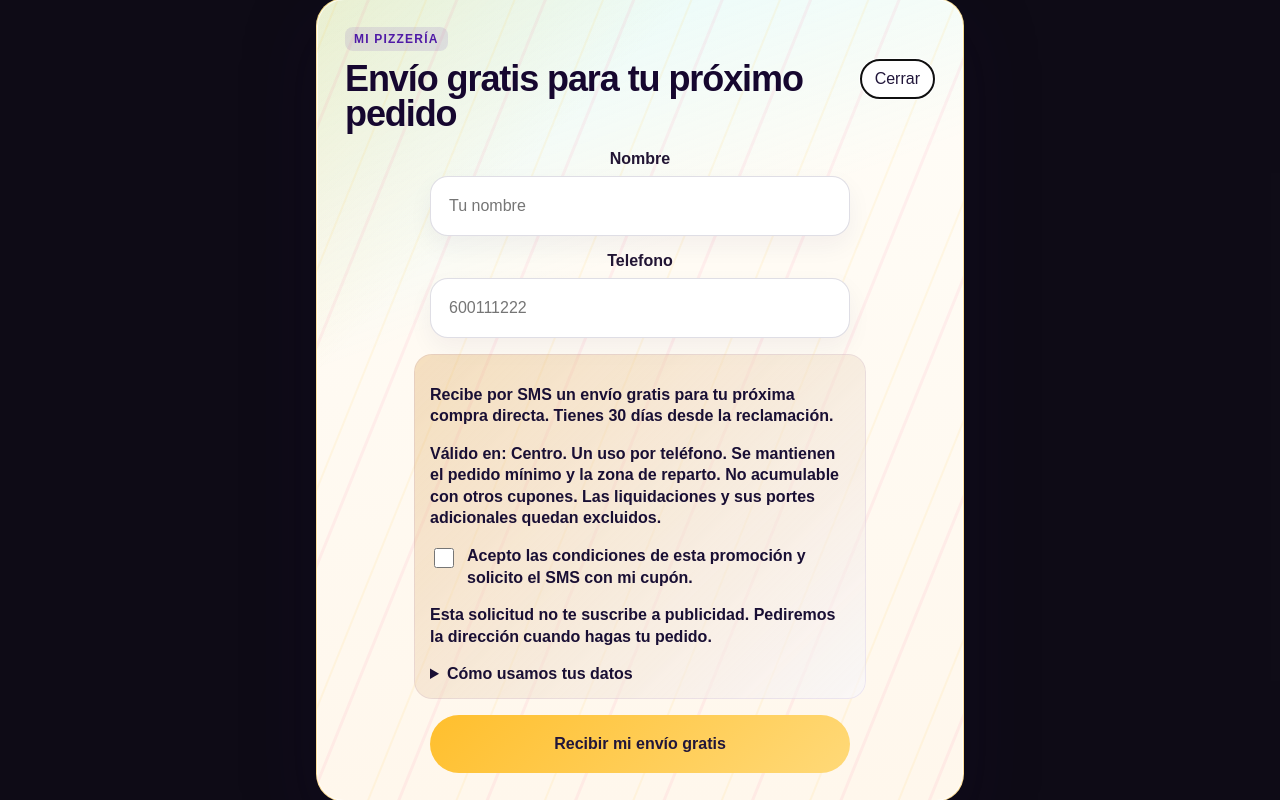
QR submission closes the modal, shows the SMS confirmation and has no resend or shopping action
The width and height of the screenshot is (1280, 800).
Type "Ana" into the field labelled "Nombre" at (640, 206), box [430,176,850,236]
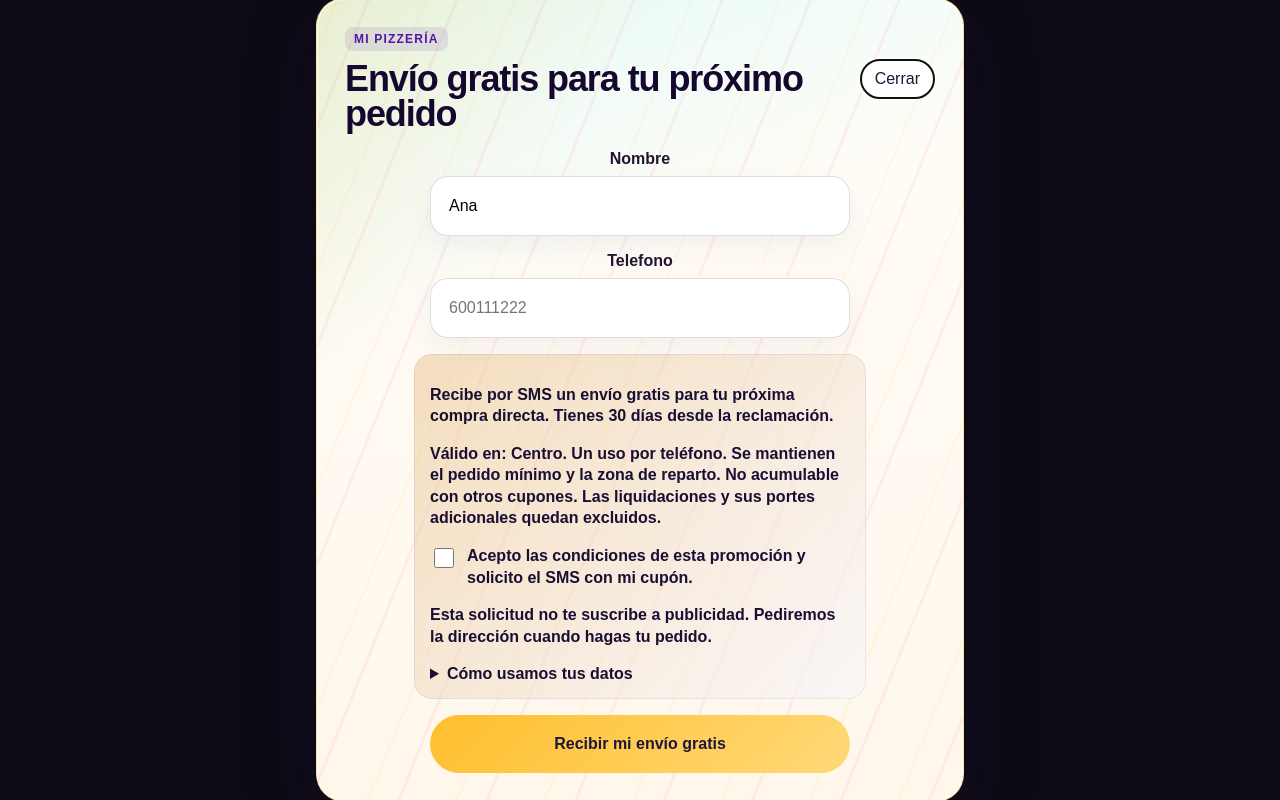
Type "600123456" into the field labelled "Telefono" at (640, 308), box [430,278,850,338]
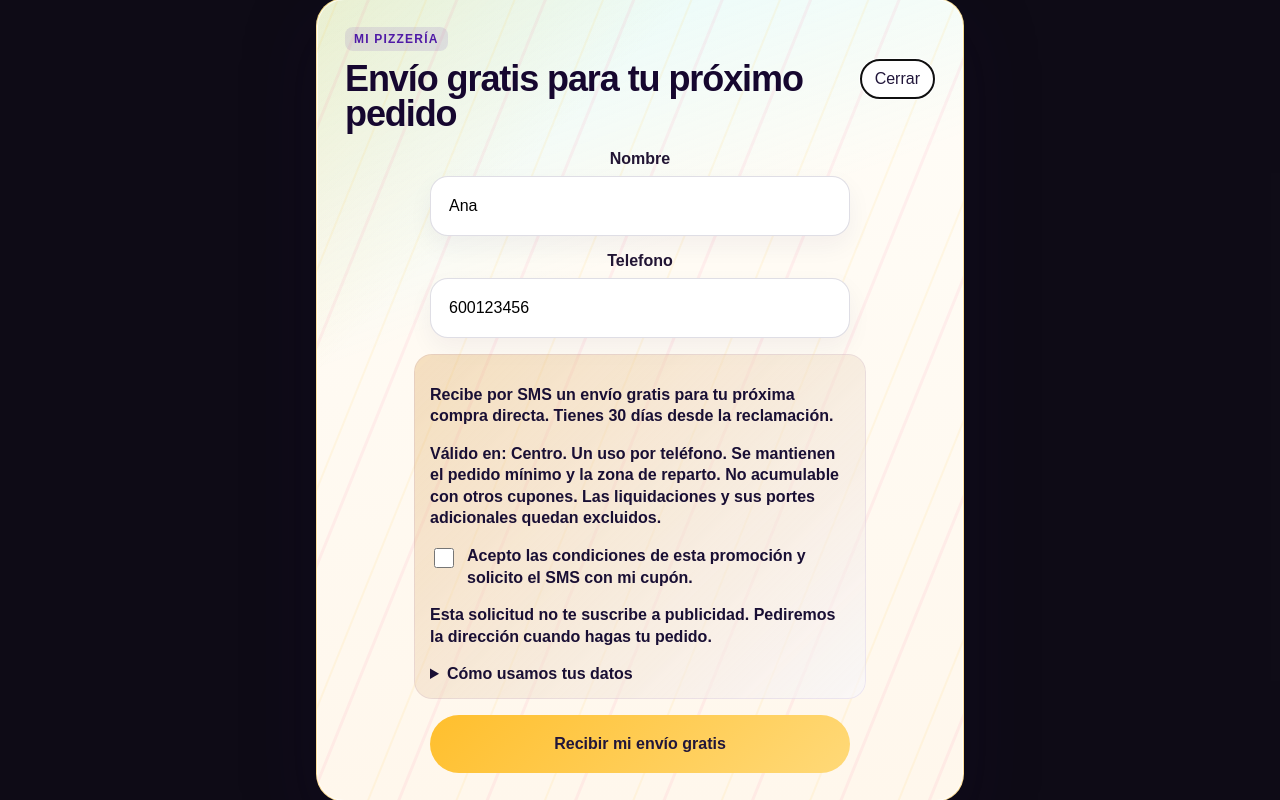
Click the checkbox at (444, 558), box [434,548,454,568]
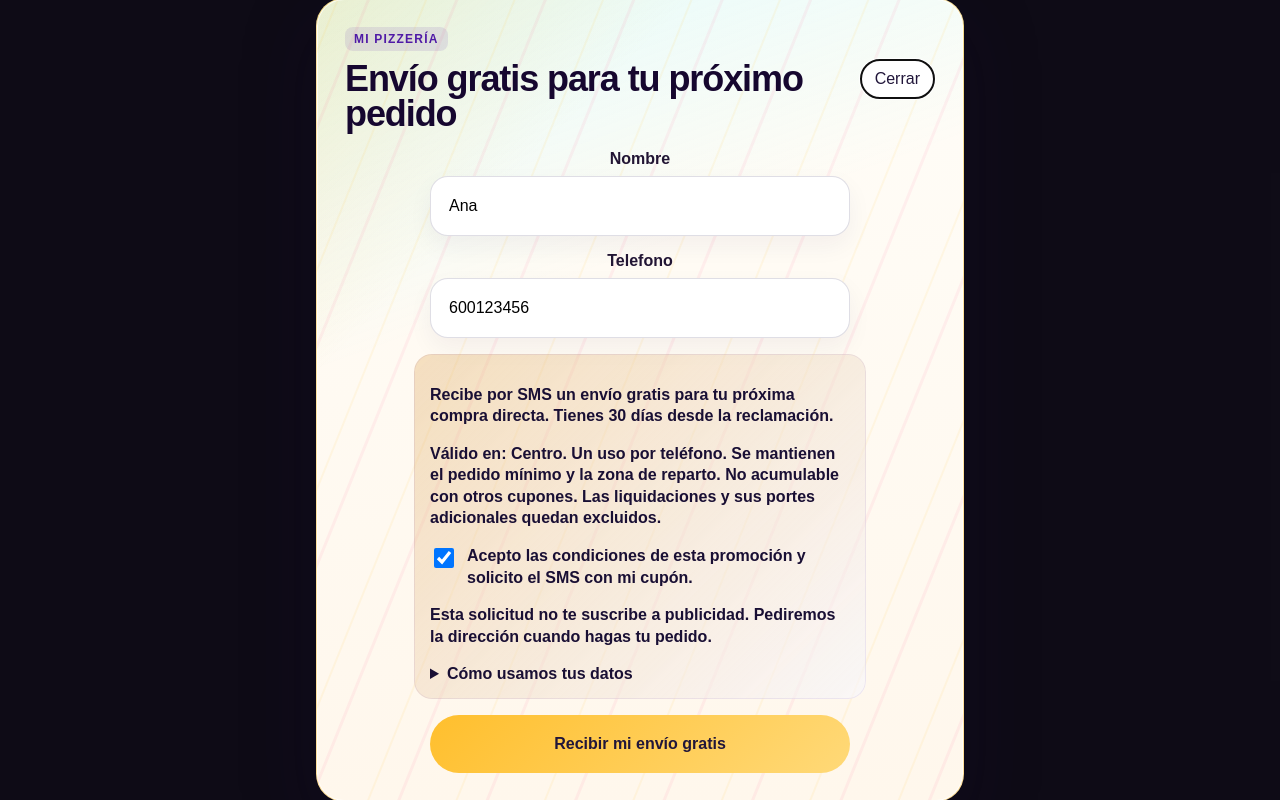
Click the button "Recibir mi envío gratis" at (640, 744), box [430,715,850,773]
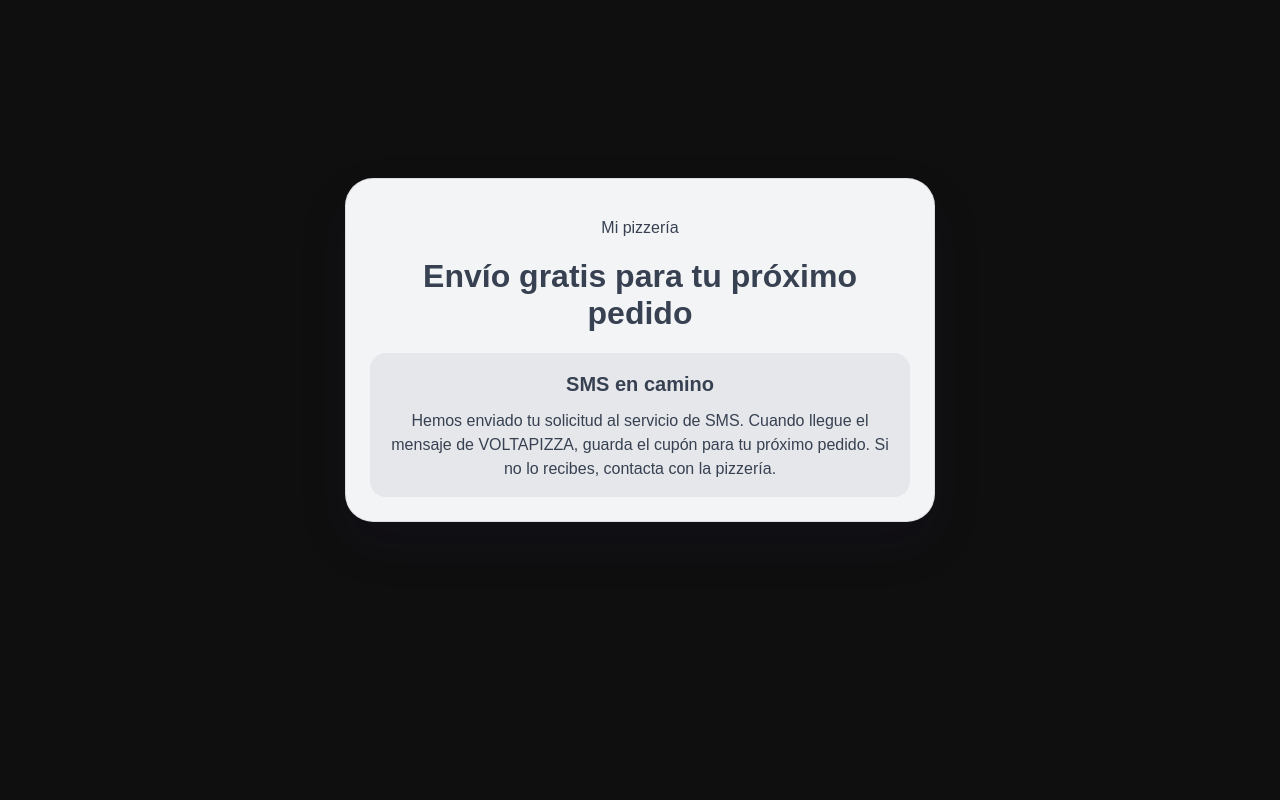
Expected: the heading "SMS en camino" is shown, [566,373,714,395]
Expected: the button "Recibir mi cupón por SMS" is gone
